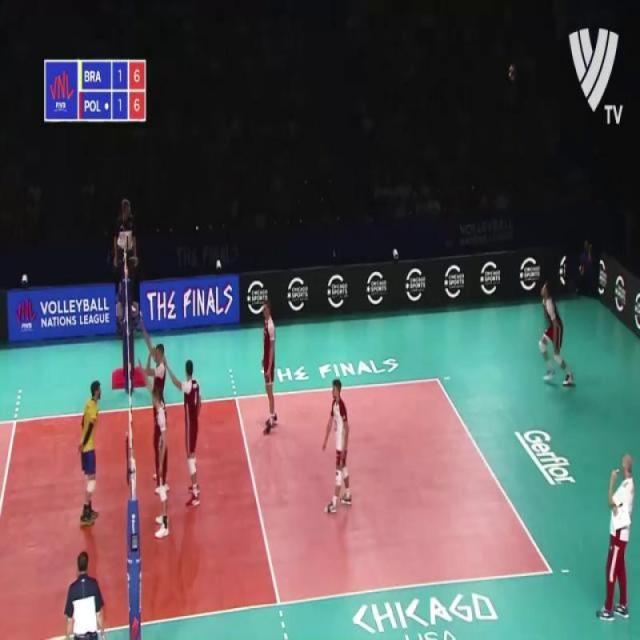volleyball: (508, 60, 516, 87)
